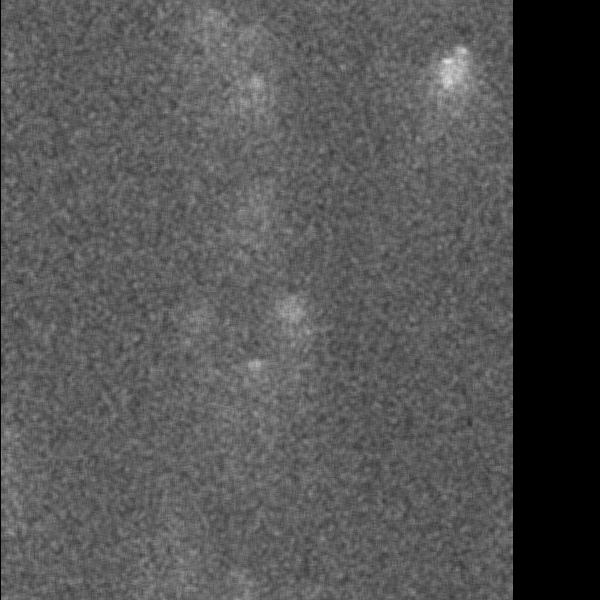spark: (433, 50, 473, 129), (267, 296, 308, 346), (243, 353, 266, 397), (241, 70, 266, 97)
